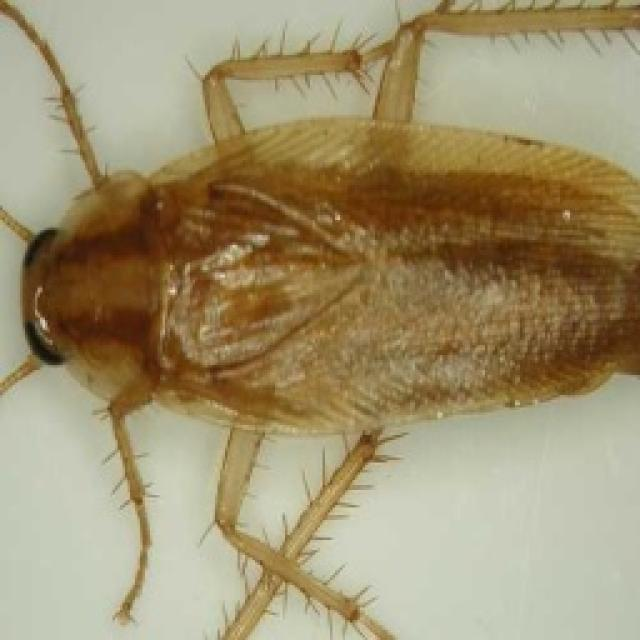cockroach: (3, 6, 637, 636), (23, 121, 638, 434)
